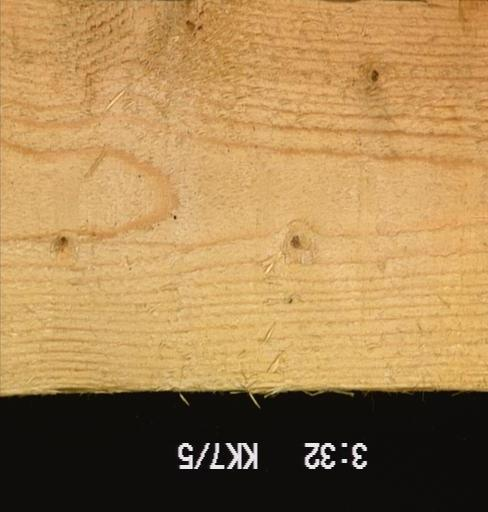small_knot: (360, 63, 394, 93), (46, 227, 72, 260), (283, 230, 302, 253)
